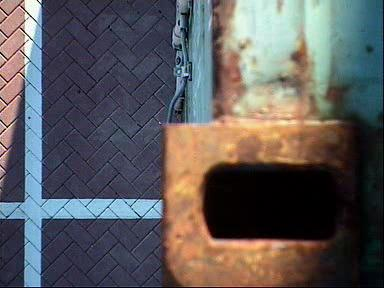groundmarker_2: (197, 229, 240, 288), (195, 70, 238, 128)
